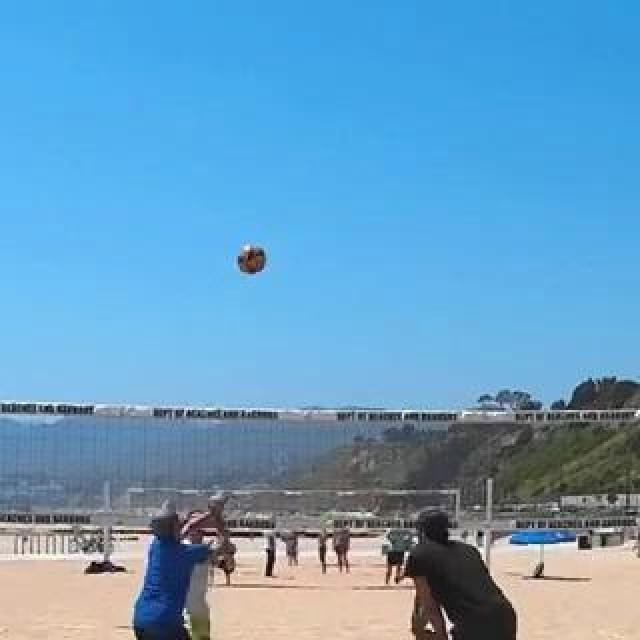volleyball: (239, 248, 267, 276)
